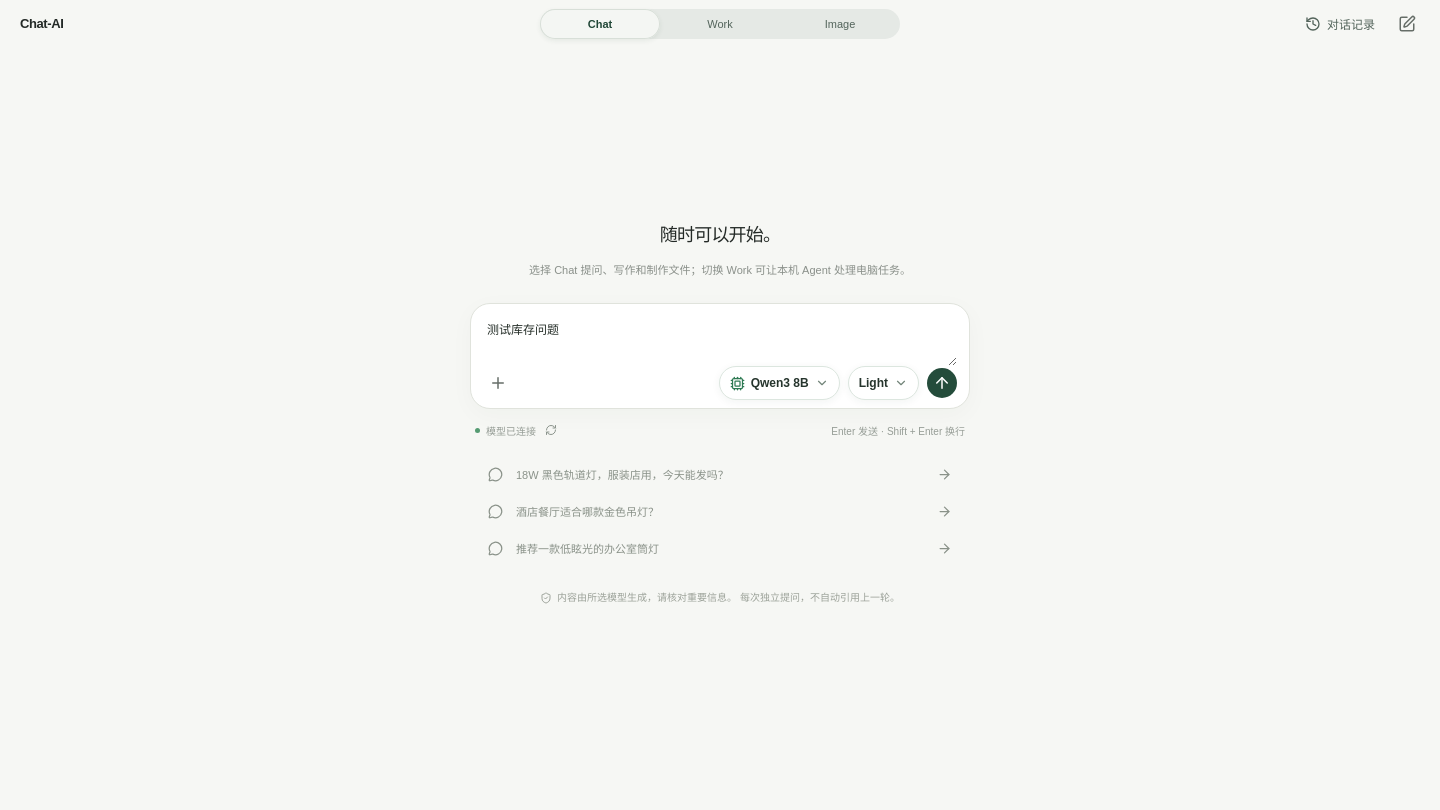
Test: smart search real-model entry › aborts a pending request on stop and can send a fresh question afterwards
Expected: the text "模型已连接" is shown, left=475, top=421, right=560, bottom=439
Expected: the button named "新问题" is enabled, left=1392, top=10, right=1420, bottom=38
Click the button named "发送问题" at (942,383), box left=927, top=368, right=957, bottom=398
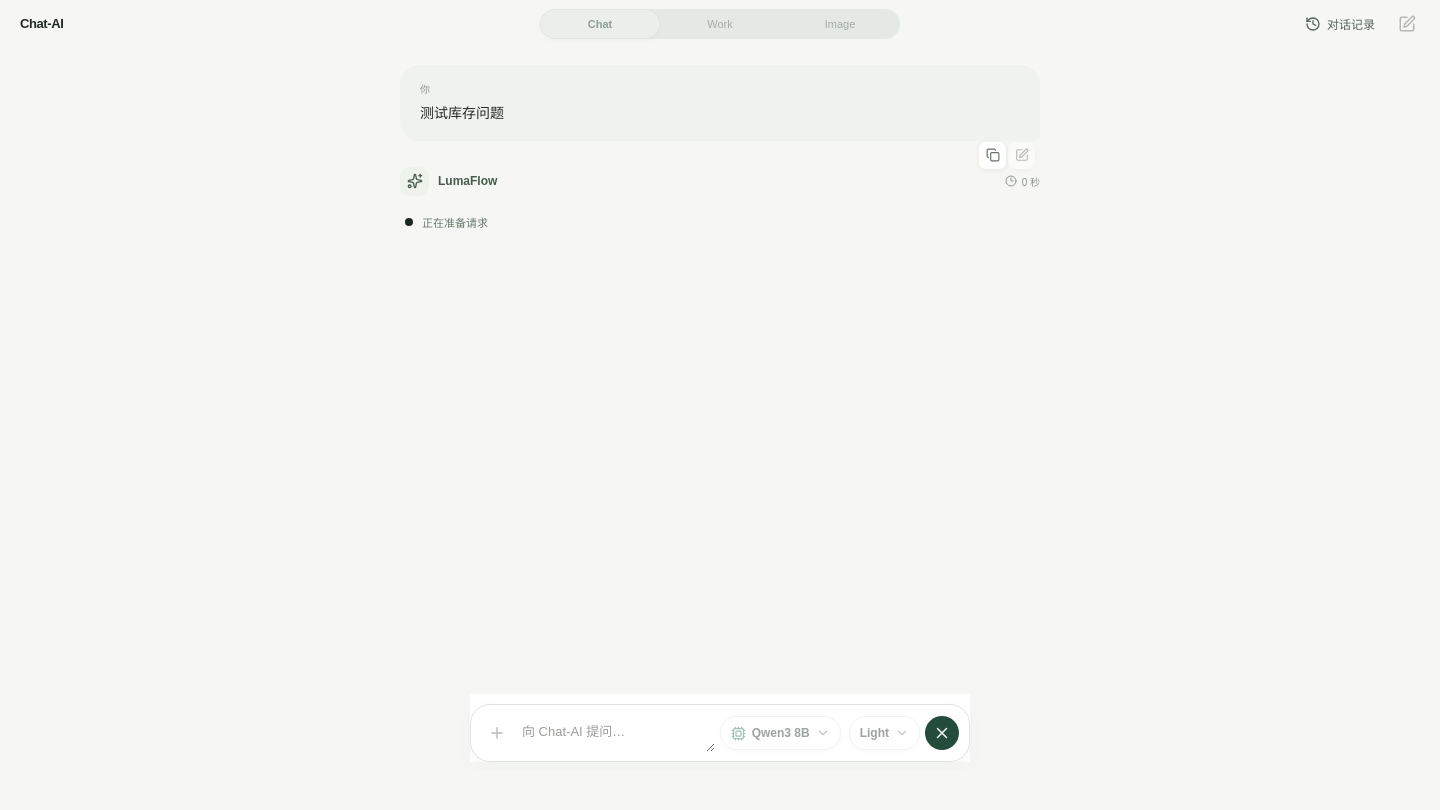
Click the button named "停止生成" at (942,733), box left=925, top=716, right=959, bottom=750
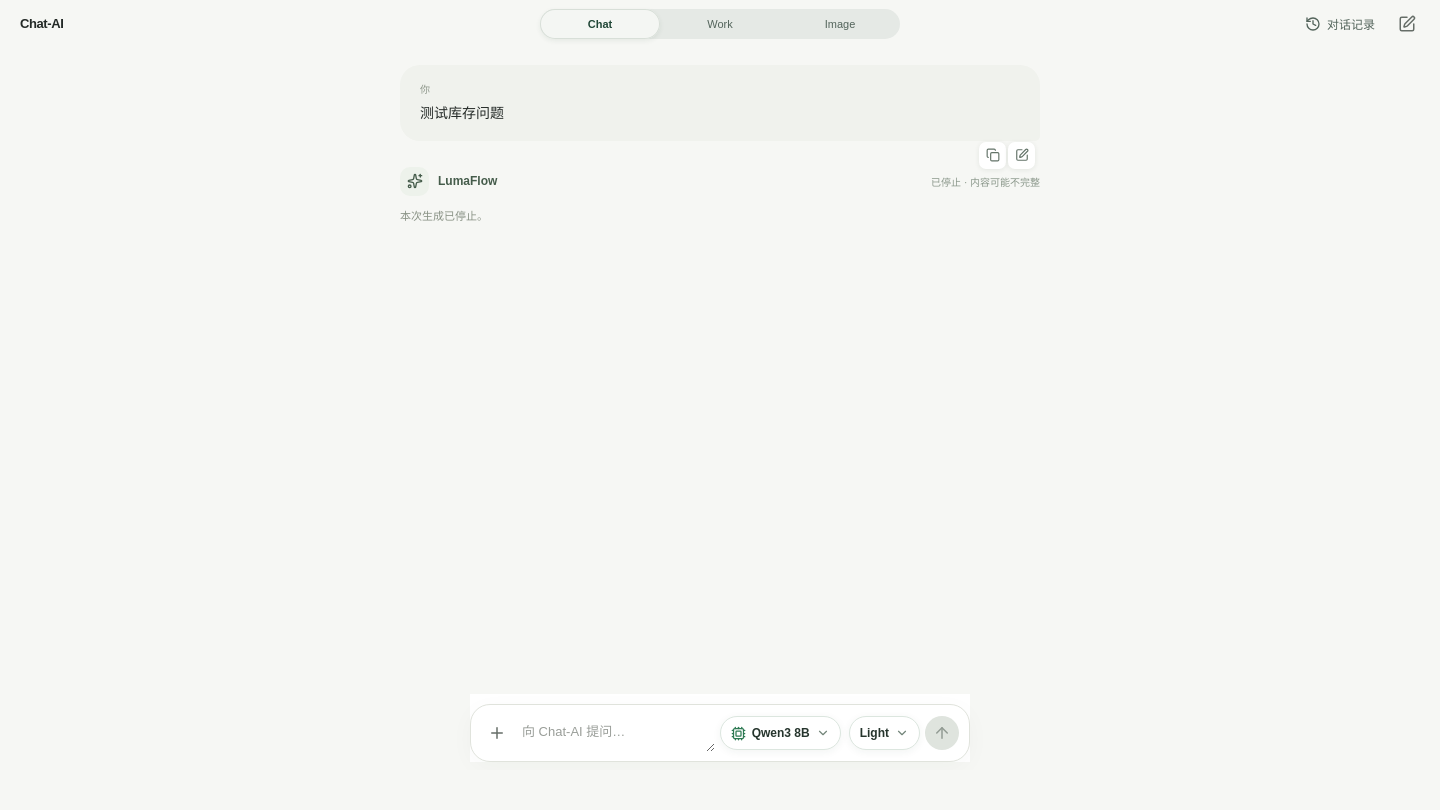
Now the button named "新问题" is enabled, box left=1392, top=10, right=1420, bottom=38
Now the text "已停止 · 内容可能不完整" is shown, box left=931, top=174, right=1040, bottom=189
Type "停止后的新问题" into the text box named "输入问题" at (616,733), box left=518, top=714, right=715, bottom=752
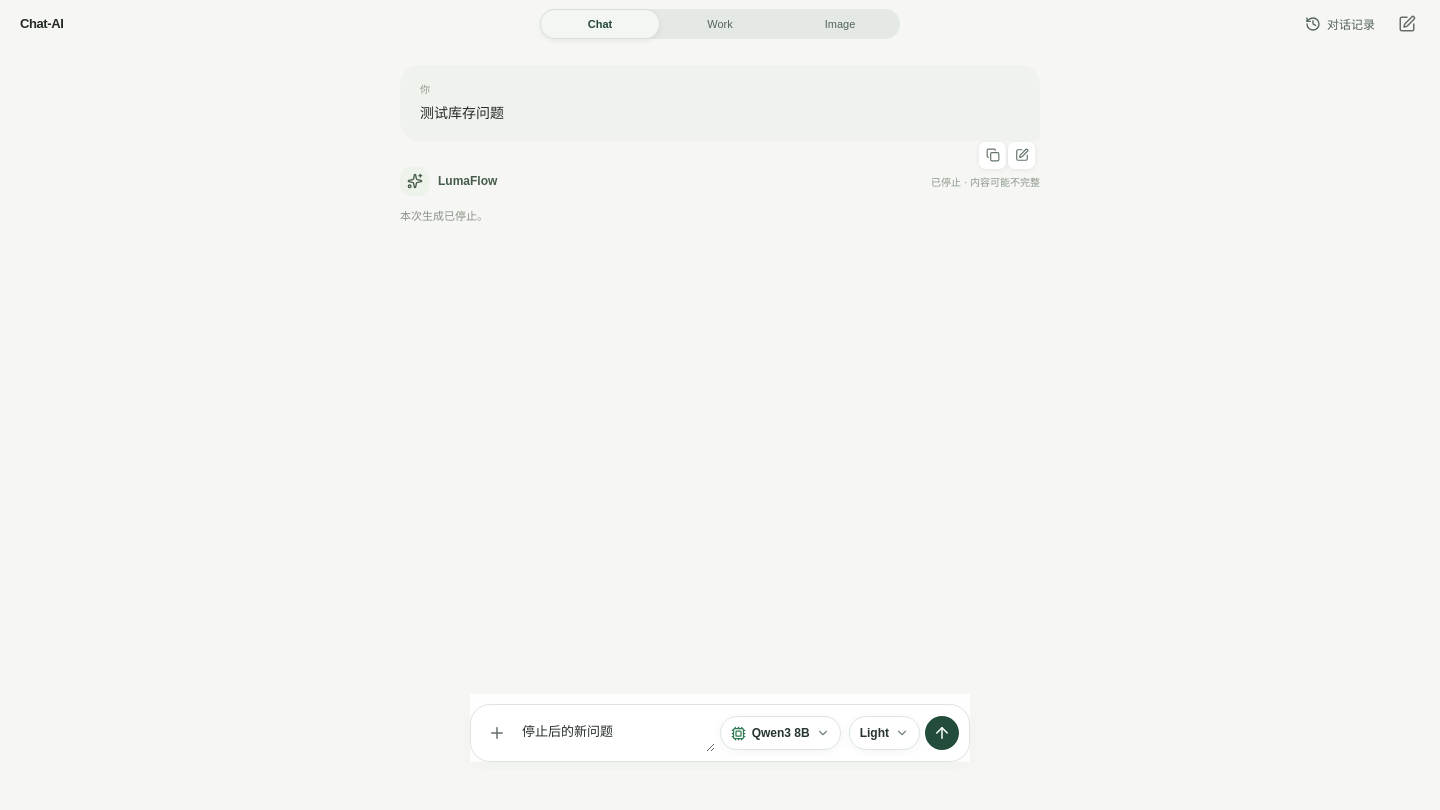
Click the button named "发送问题" at (942,733), box left=925, top=716, right=959, bottom=750
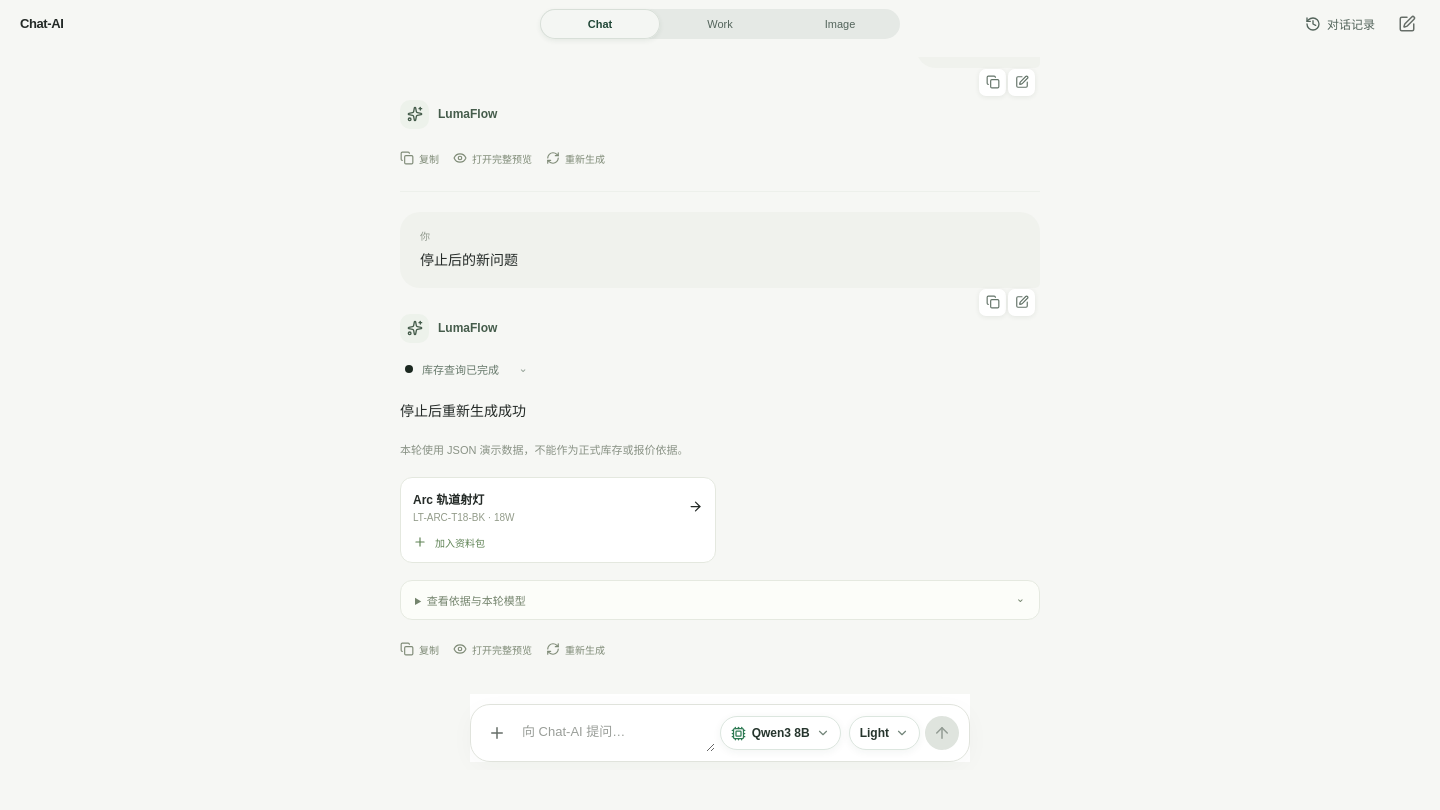
Now the element with test id "agent-answer" reads "停止后重新生成成功", box left=400, top=403, right=526, bottom=419
